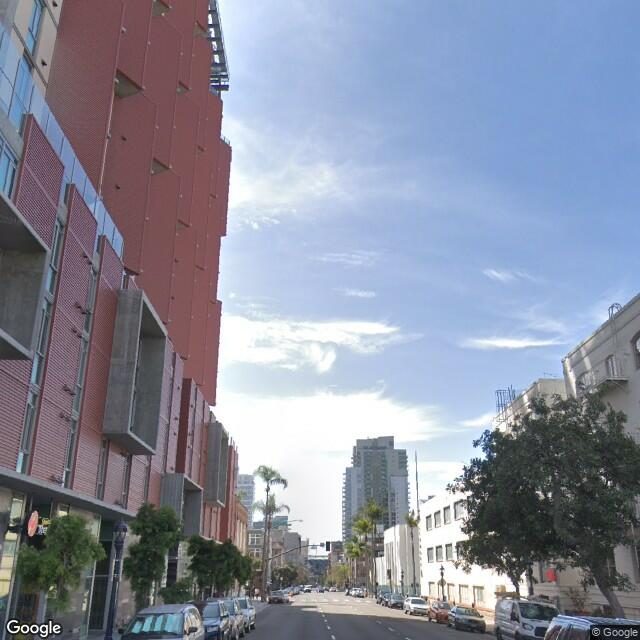window: (49, 214, 59, 286)
